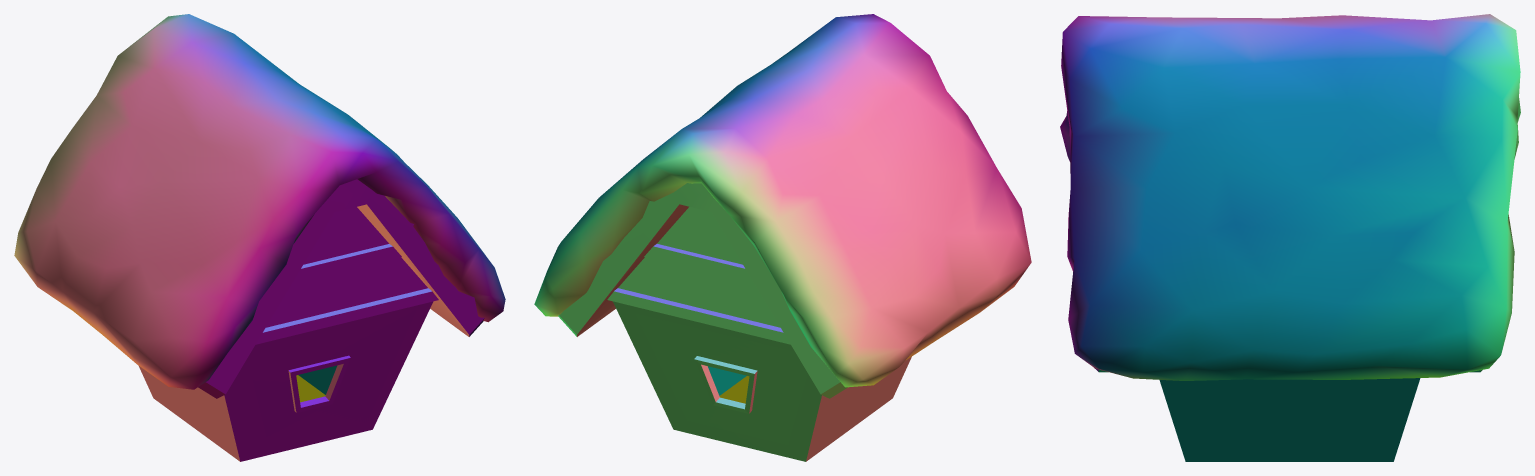
File: hoot.fbx
The picture shows the model from 3 angles, left to right: view 1: azimuth 30°, elevation 25°; view 2: azimuth 150°, elevation 25°; view 3: azimuth 270°, elevation 25°; orthographic projection. The views are drawn at different scales.
Visible parts, largest first — view 1: roof, hut; view 2: roof, hut; view 3: roof, hut.
Boxes of the visible parts, left/top/right/bottom form: roof: left=14, top=14, right=505, bottom=389; hut: left=138, top=179, right=484, bottom=461; roof: left=534, top=14, right=1031, bottom=387; hut: left=558, top=183, right=911, bottom=461; roof: left=1060, top=14, right=1520, bottom=380; hut: left=1094, top=368, right=1482, bottom=461.
Bounding box in the file's own units: 411 × 383 × 396.
